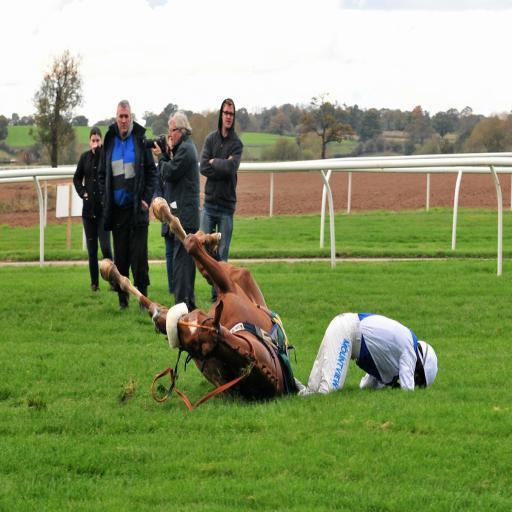horse: (100, 194, 288, 404)
